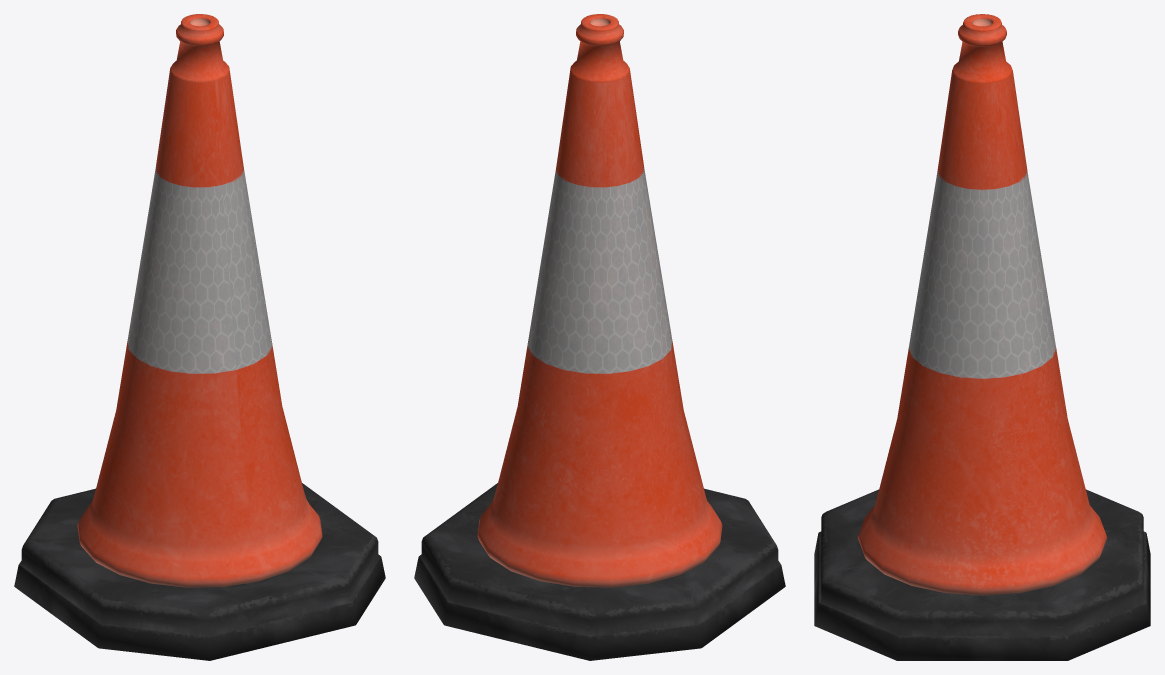
3 renders of one model, left to right at view 1: azimuth 30°, elevation 25°; view 2: azimuth 150°, elevation 25°; view 3: azimuth 270°, elevation 25°, orthographic.
Parts seen in each view (by area): view 1: Cone_mesh; view 2: Cone_mesh; view 3: Cone_mesh.
Part boxes in pixels (left/top/right/bottom): Cone_mesh: left=14, top=14, right=385, bottom=660; Cone_mesh: left=414, top=14, right=785, bottom=660; Cone_mesh: left=814, top=14, right=1150, bottom=660.
Bounding box in the file's own units: 0.8833 × 1.65 × 0.8833.
2 materials, 2 textured.
